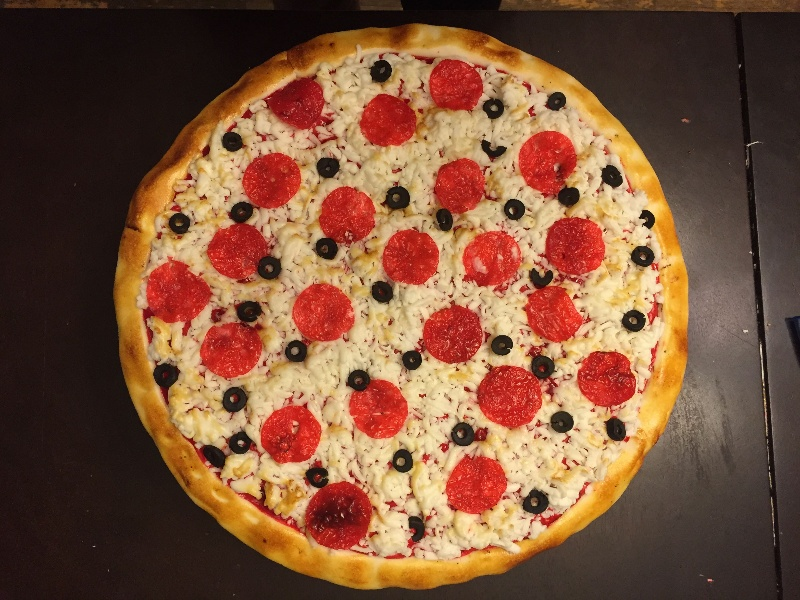olive noir: (254, 254, 293, 281), (225, 427, 261, 456), (366, 274, 397, 307), (149, 358, 185, 386), (364, 58, 399, 86), (162, 208, 193, 238), (278, 337, 311, 365), (478, 93, 510, 121), (518, 484, 549, 512), (600, 415, 629, 444), (218, 127, 247, 155), (627, 243, 656, 270), (341, 366, 371, 392), (619, 306, 645, 336), (220, 384, 245, 415)
pepperonis: (475, 364, 544, 433), (476, 365, 552, 427), (142, 259, 212, 325), (250, 398, 319, 464), (340, 383, 414, 444), (294, 277, 359, 343), (421, 301, 489, 364), (193, 318, 263, 379), (266, 73, 335, 134), (518, 285, 590, 343), (444, 455, 510, 518), (519, 127, 577, 195), (311, 186, 380, 243), (209, 225, 273, 285), (540, 216, 606, 274), (427, 49, 483, 116), (240, 149, 302, 207), (578, 349, 637, 409), (468, 231, 524, 294), (385, 226, 444, 285), (359, 92, 420, 148), (433, 160, 489, 218)
